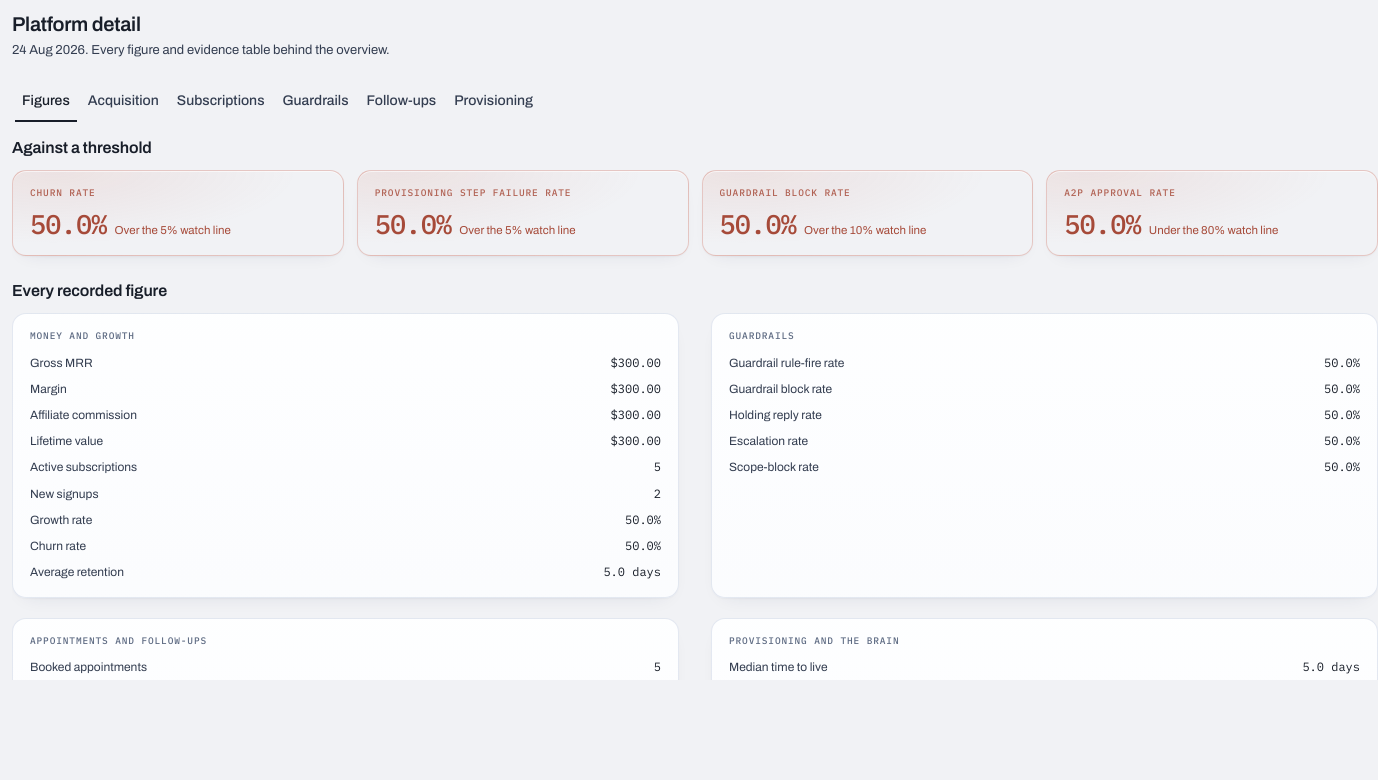
Test case: AdminPlatformDetailSurface › describes guardrail evidence without claiming a real-data origin
Click the tab "Guardrails".
click(316, 100)  # box [276,88,356,113]
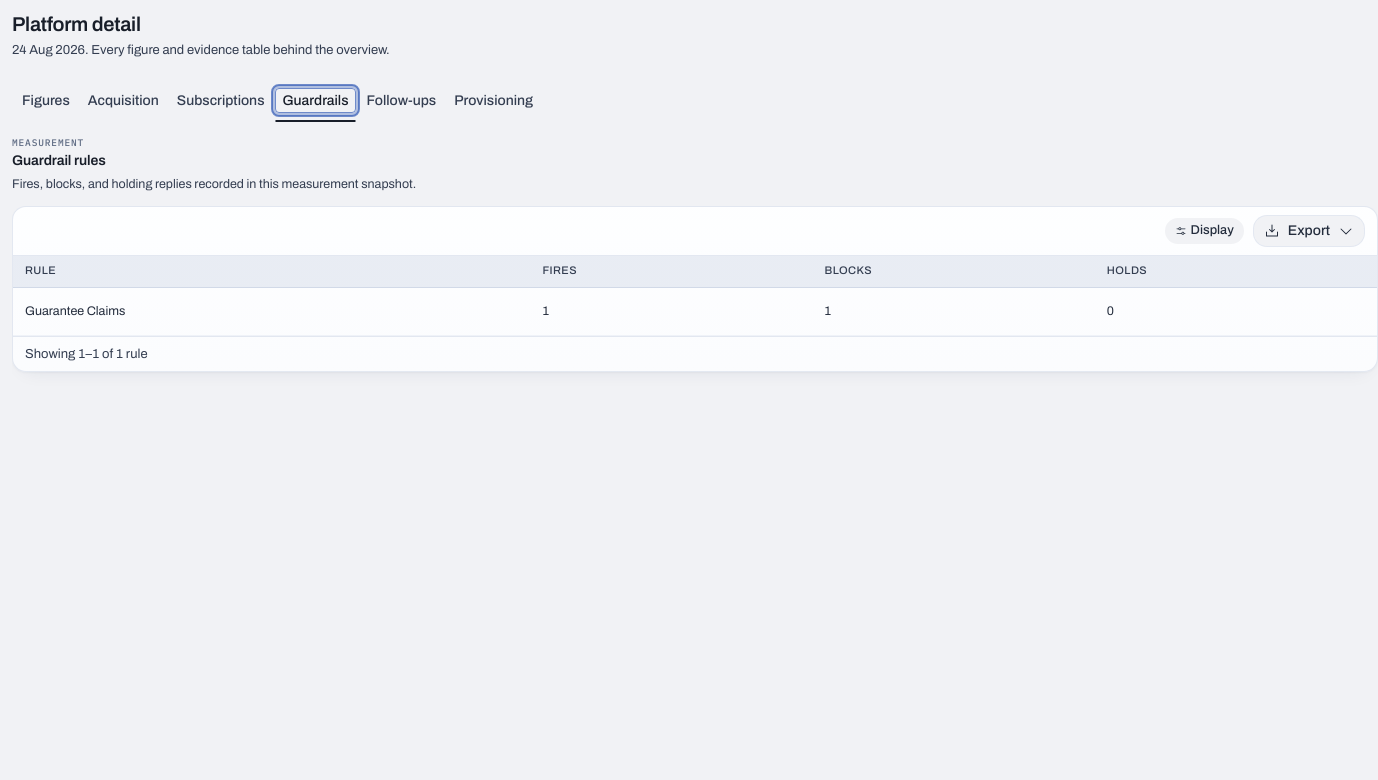
Expected: the text "Fires, blocks, and holding replies recorded in this measurement snapshot." is shown, [12,177,416,191]
